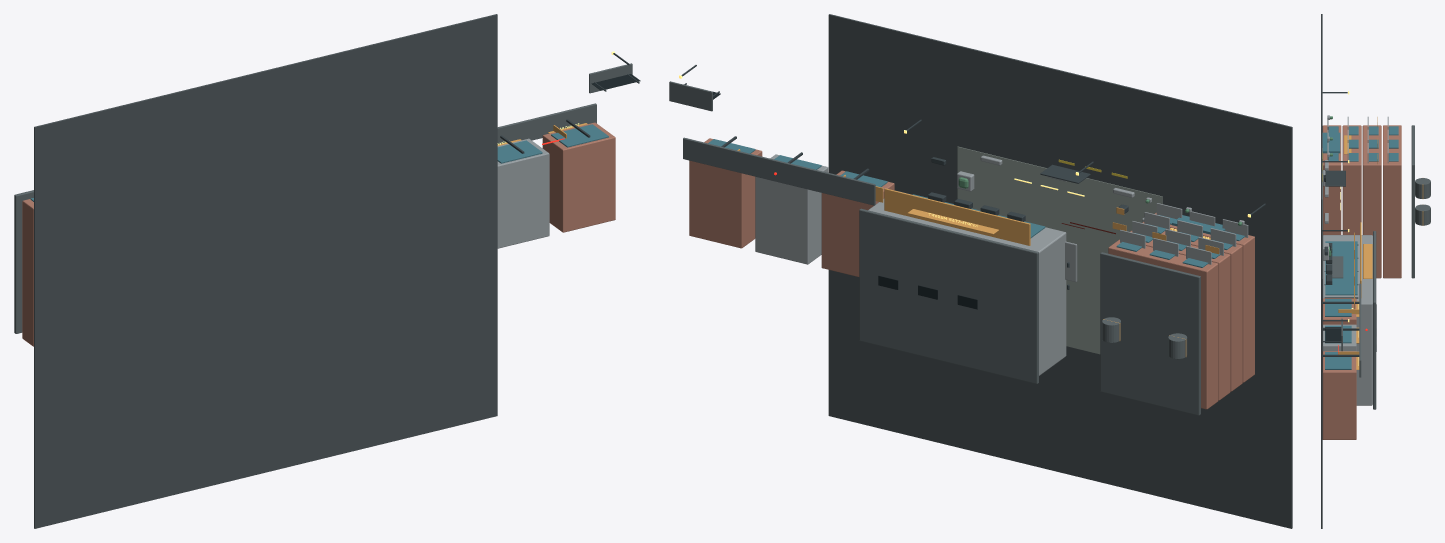
Rendered from residential_life_cluster.glb.
3 renders of one model, left to right at view 1: azimuth 30°, elevation 25°; view 2: azimuth 150°, elevation 25°; view 3: azimuth 270°, elevation 25°, orthographic. The views are drawn at different scales.
Parts seen in each view (by area): view 1: DistrictPlazaGround, PlazaShop2, PlazaShop1, ArcadeRoof, ApartmentFloor3, ApartmentRoof; view 2: DistrictPlazaGround, SupermarketRoof, ApartmentRoof, CentralPedestrianCourt, PlazaShop2, PlazaShop1, SupermarketShell, ArcadeRoof, ApartmentFloor3, PlazaShop0, SupermarketCanopy, ApartmentFloor2 (+3 smaller); view 3: ApartmentFloor3, SupermarketShell, PlazaShop2, ApartmentFloor2, ApartmentFloor1, SupermarketCurtainWall, ApartmentFloor0, DistrictPlazaGround, SupermarketRoof, ApartmentRoof, PlazaShop1, Shopfront (+11 smaller).
Boxes of the visible parts, x1,y1,x2,y2 form: DistrictPlazaGround: [34, 14, 497, 528]; PlazaShop2: [542, 122, 615, 232]; PlazaShop1: [497, 138, 549, 248]; ArcadeRoof: [497, 103, 596, 143]; ApartmentFloor3: [22, 199, 33, 346]; ApartmentRoof: [14, 190, 33, 333]; DistrictPlazaGround: [828, 14, 1292, 528]; SupermarketRoof: [859, 208, 1038, 383]; ApartmentRoof: [1100, 252, 1200, 415]; CentralPedestrianCourt: [957, 146, 1162, 354]; PlazaShop2: [689, 138, 762, 248]; PlazaShop1: [755, 154, 828, 264]; SupermarketShell: [868, 191, 1066, 375]; ArcadeRoof: [683, 137, 875, 205]; ApartmentFloor3: [1108, 239, 1218, 409]; PlazaShop0: [821, 170, 894, 276]; SupermarketCanopy: [884, 188, 1030, 245]; ApartmentFloor2: [1130, 230, 1230, 400]; ApartmentFloor3: [1383, 125, 1401, 278]; SupermarketShell: [1322, 235, 1372, 405]; PlazaShop2: [1322, 351, 1356, 439]; ApartmentFloor2: [1362, 125, 1381, 278]; ApartmentFloor1: [1342, 125, 1361, 234]; SupermarketCurtainWall: [1325, 241, 1357, 295]; ApartmentFloor0: [1322, 125, 1341, 235]; DistrictPlazaGround: [1321, 14, 1322, 528]; SupermarketRoof: [1373, 231, 1376, 409]; ApartmentRoof: [1411, 125, 1414, 278]; PlazaShop1: [1322, 324, 1356, 351]; Shopfront: [1325, 299, 1351, 316].
Size of the model in its own units: 92.25 by 58 by 17.49.
